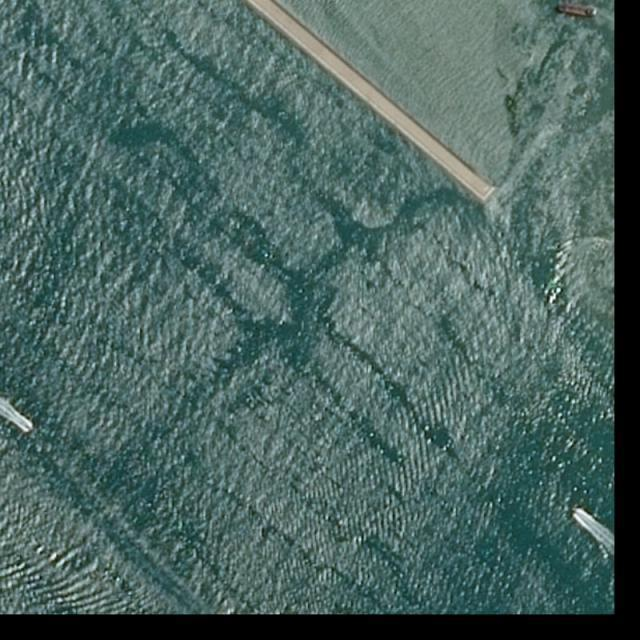ship: (555, 2, 600, 18), (571, 506, 582, 516), (24, 423, 35, 431)
